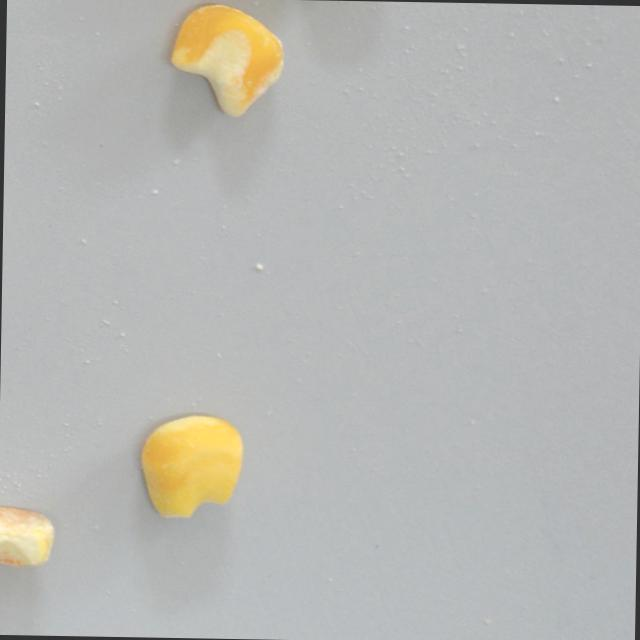pelicula: (170, 3, 285, 119), (138, 413, 246, 519), (0, 505, 52, 568)
